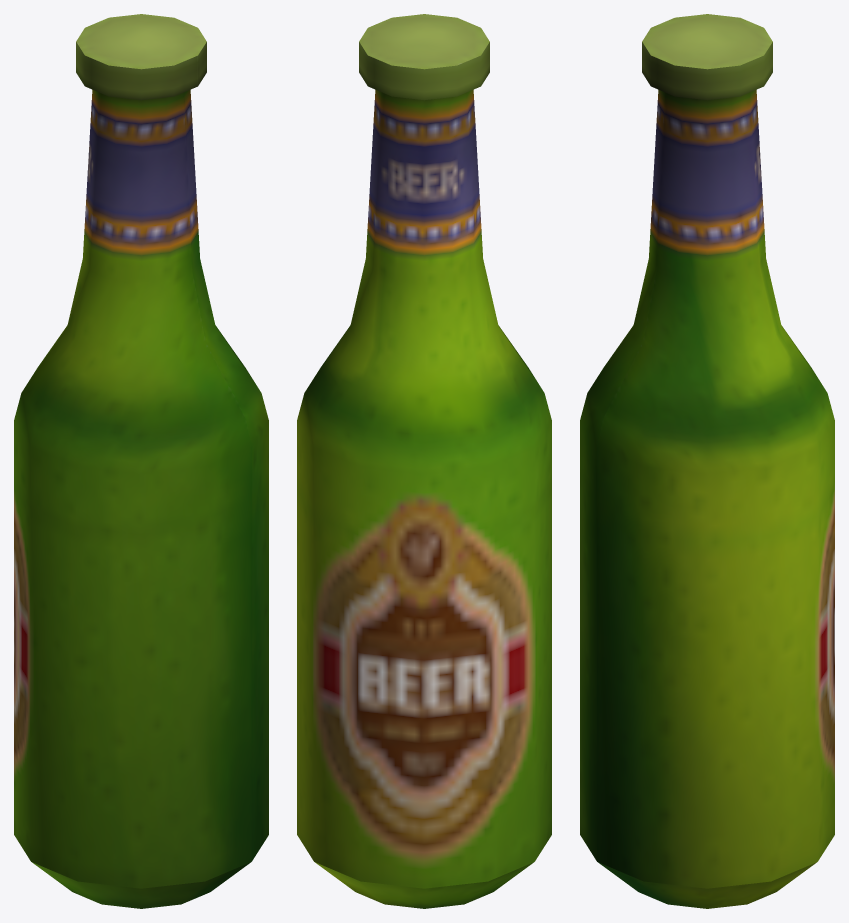
File: PiErSenGongYu_01_pijiuping_01.FBX
3 views of the same model, side by side, from view 1: azimuth 30°, elevation 25°; view 2: azimuth 150°, elevation 25°; view 3: azimuth 270°, elevation 25° (orthographic).
Parts seen in each view (by area): view 1: XiuLiChang_pijiuping_01; view 2: XiuLiChang_pijiuping_01; view 3: XiuLiChang_pijiuping_01.
Part boxes in pixels (bbox=[...]): XiuLiChang_pijiuping_01: bbox=[14, 14, 268, 908]; XiuLiChang_pijiuping_01: bbox=[297, 14, 551, 908]; XiuLiChang_pijiuping_01: bbox=[580, 14, 834, 908].
Size of the model in its own units: 38.44 by 140 by 38.44.
